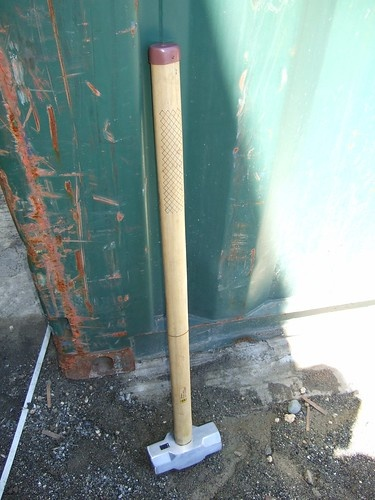hammer: (138, 42, 225, 475)
